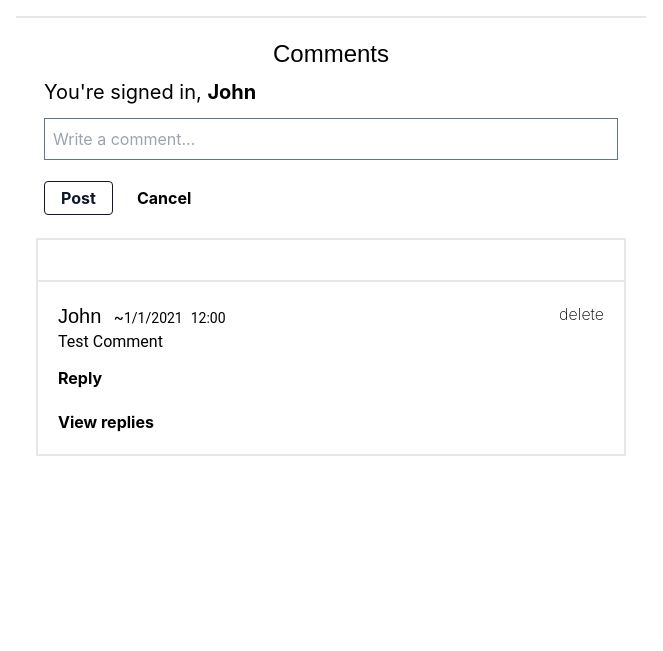
comment section › replies › renders reply when reply button is clicked
Click the button "View replies" at (106, 422), box [58,410,154,434]
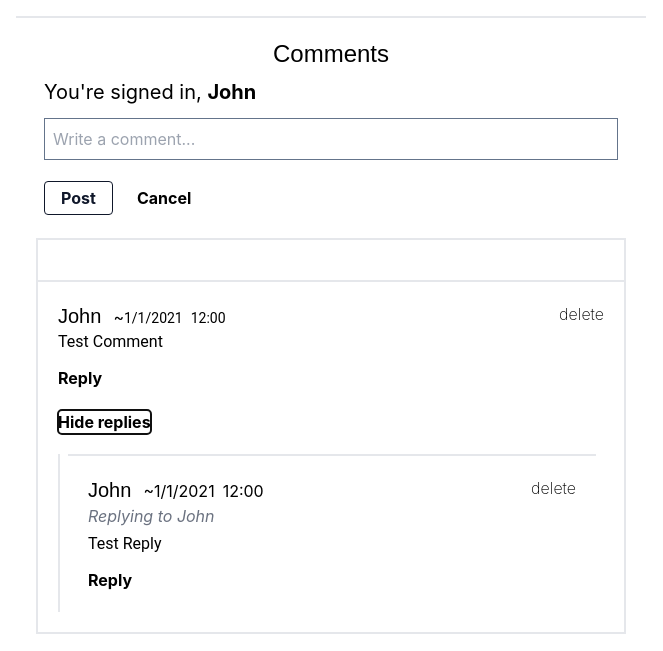
Check: the text "Test Reply" is shown, box [88,534,162,553]
